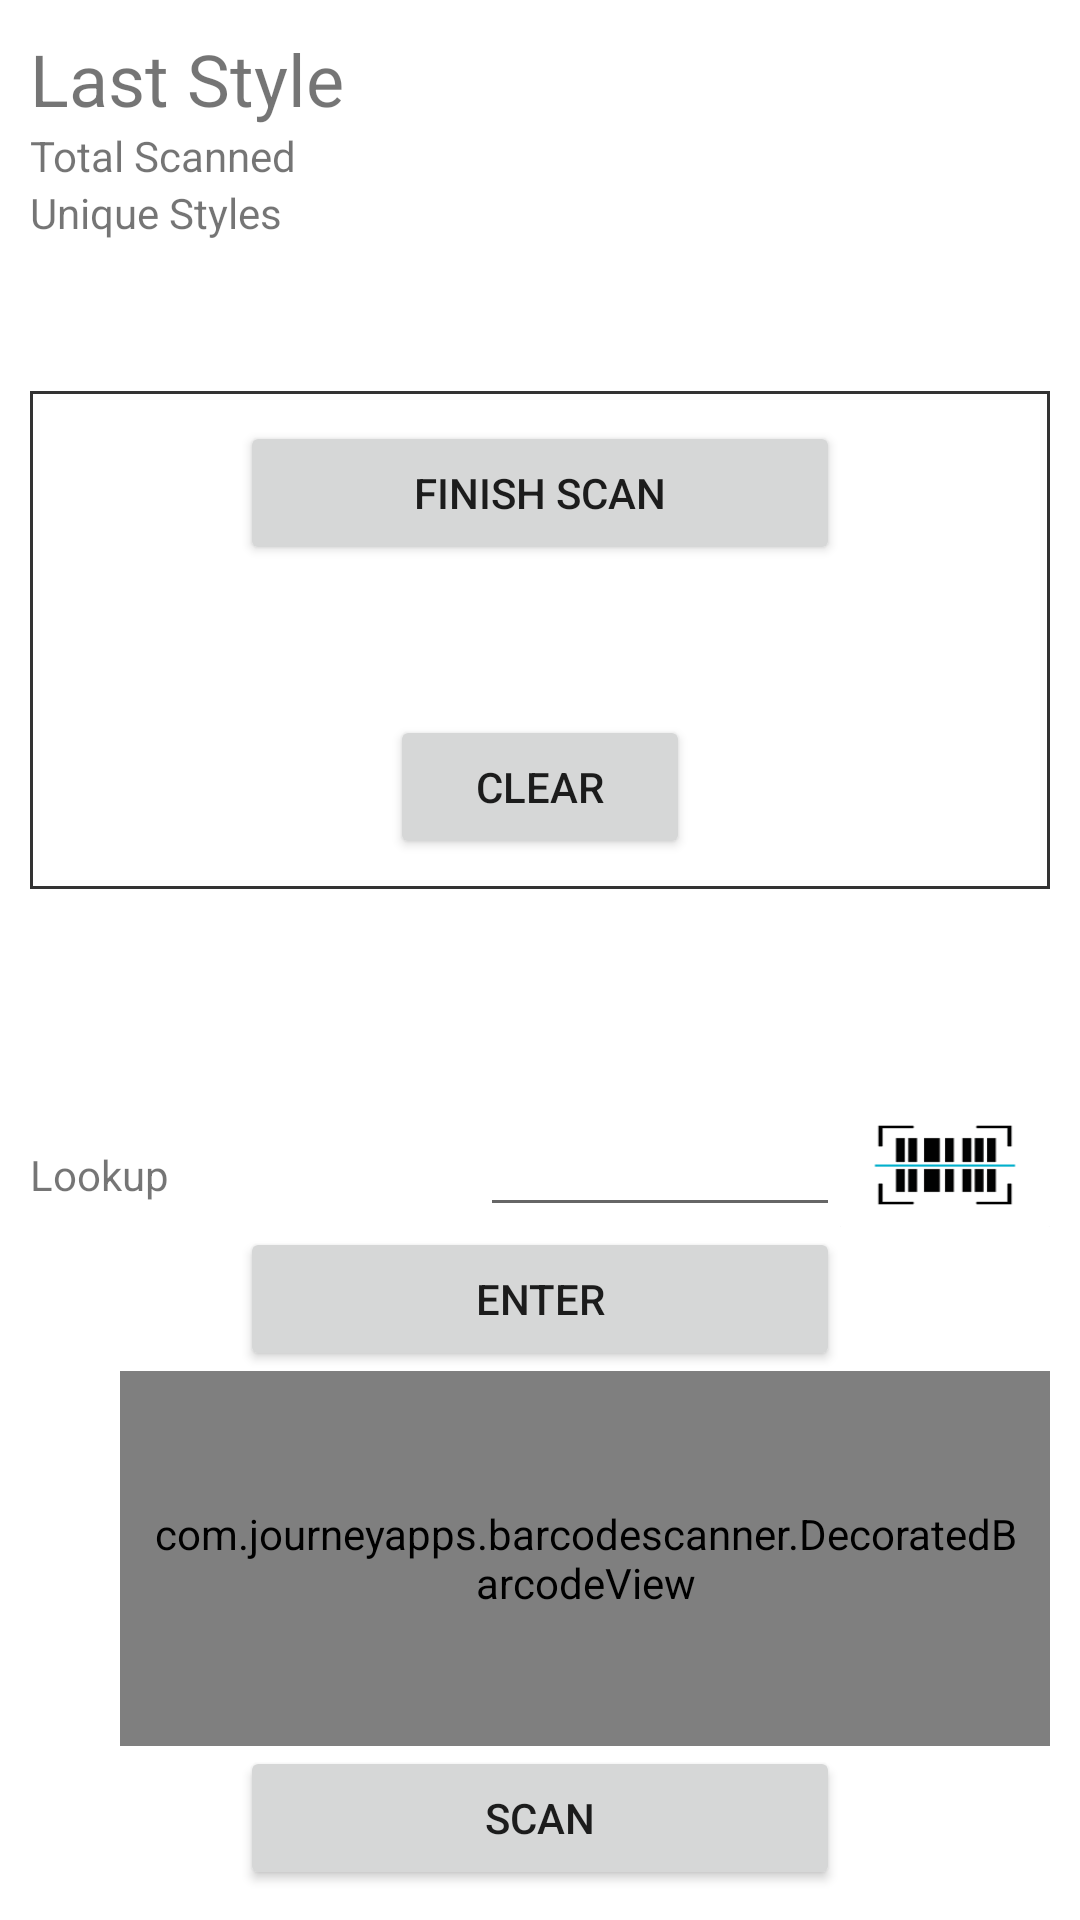

Where icons sit on this 1080px x 1920px app screen, as (x1, y1, x2, y2):
scan: (874, 1125, 1016, 1205)
